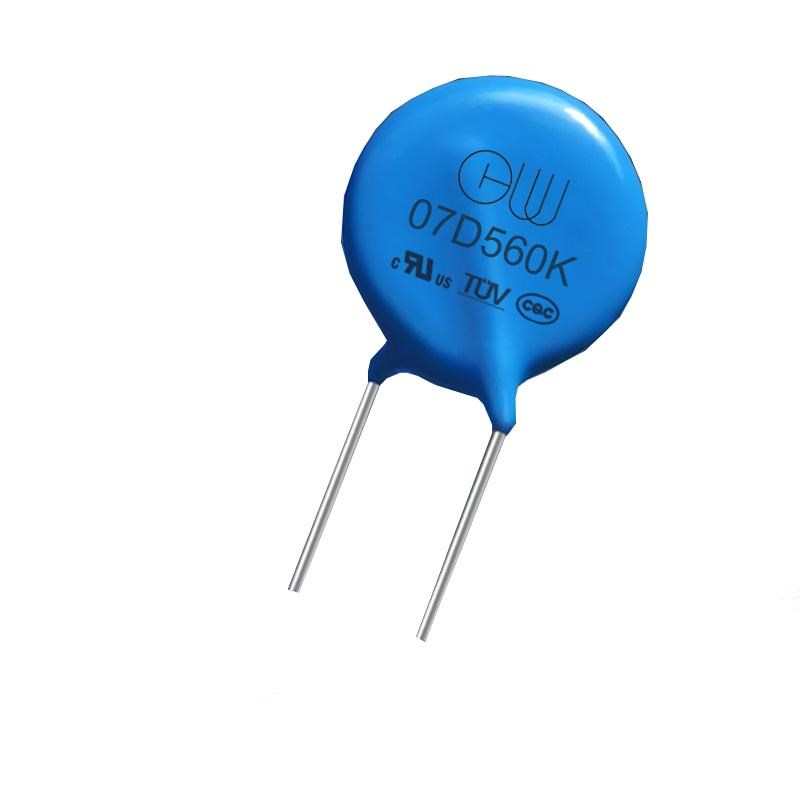MOV: (216, 76, 713, 664)
